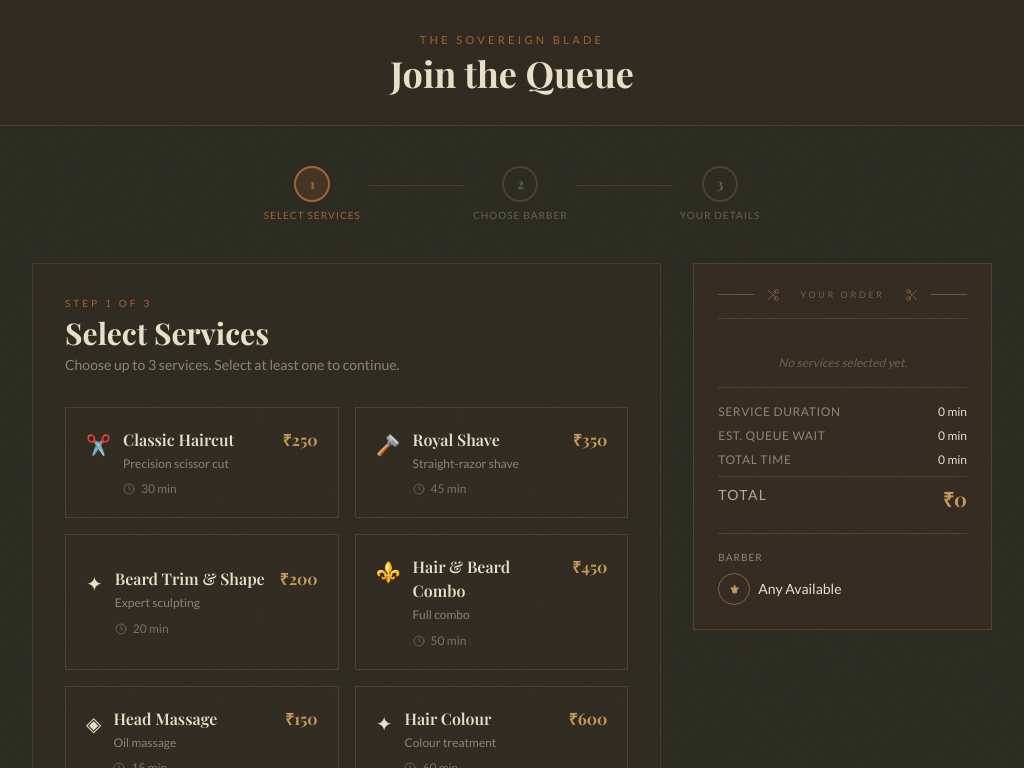
Test: JoinQueuePage — Step 1 (Services) › enables Continue after selecting a service
Click the button "✂️ Classic Haircut ₹250 Precision scissor cut 30 min". click: (202, 462)
box: [65, 406, 339, 518]
(page scrolled)
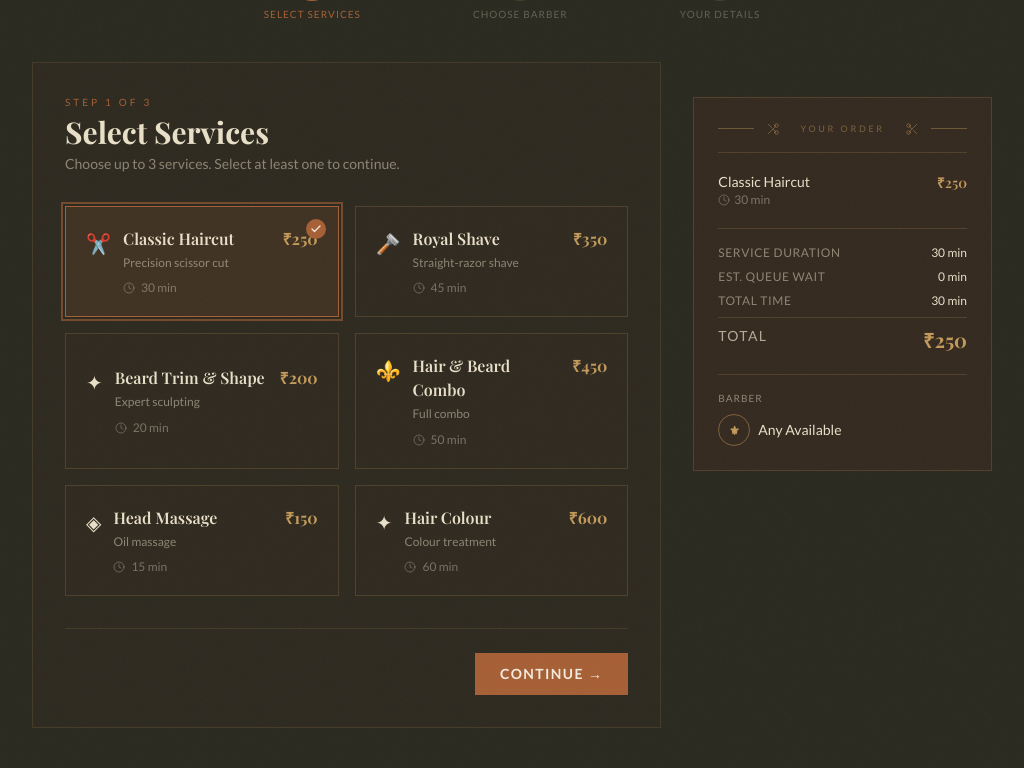
Now the button "Continue →" is enabled, box [475, 653, 628, 695]
